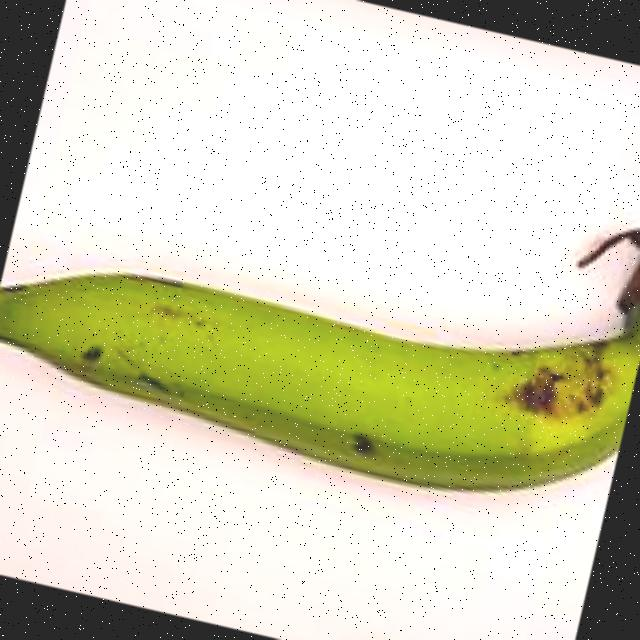Raw: (0, 65, 640, 562)
